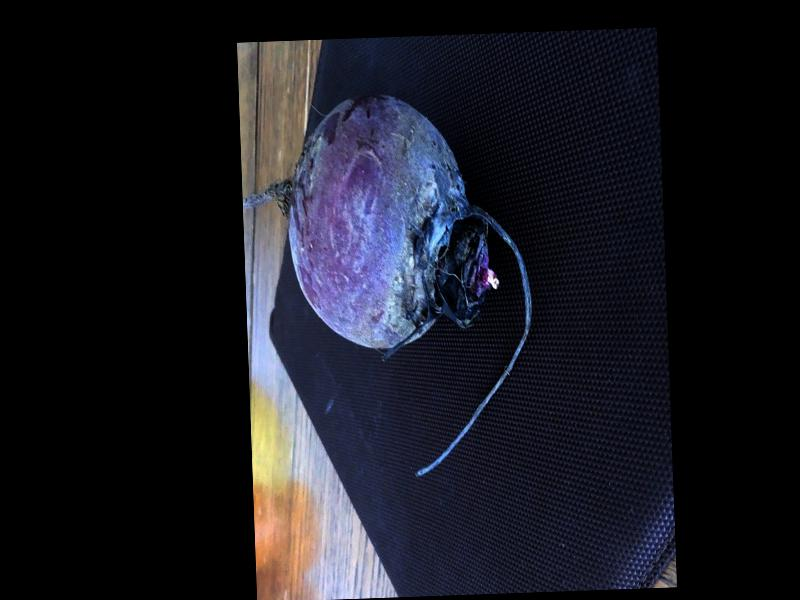Beet: (240, 88, 537, 483)
